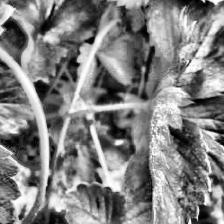Powdery Mildew Leaf: (148, 85, 212, 224)
